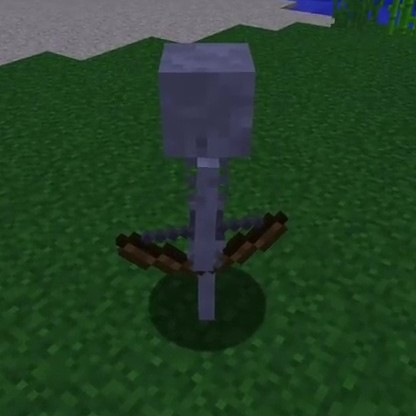skeleton: (148, 40, 263, 325)
